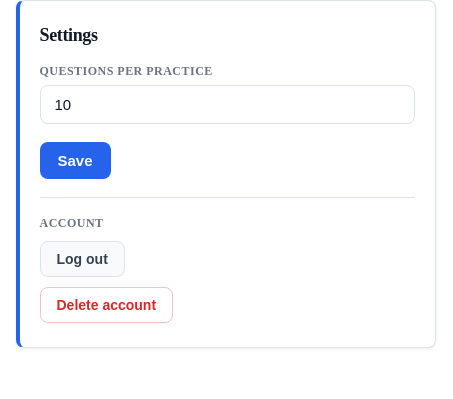
Test: Settings — saving › PATCHes the new values and shows a confirmation
Step 1. Replace the text in the number field with "20" → (227, 104), box [40, 85, 414, 124]
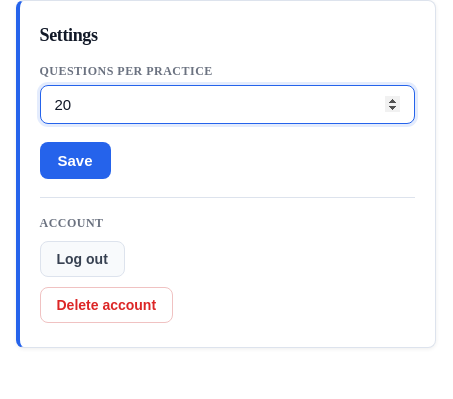
Step 2. Click the button "Save" → (75, 160), box [40, 142, 110, 179]
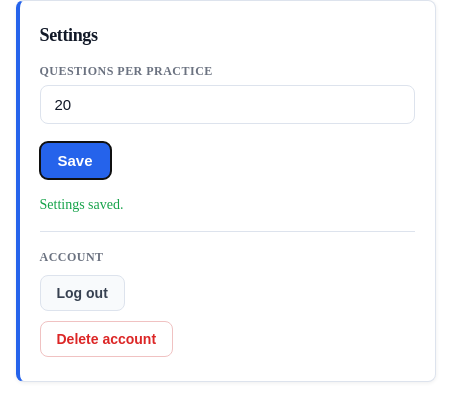
Expected: the text "Settings saved." is shown, [40, 197, 124, 212]
